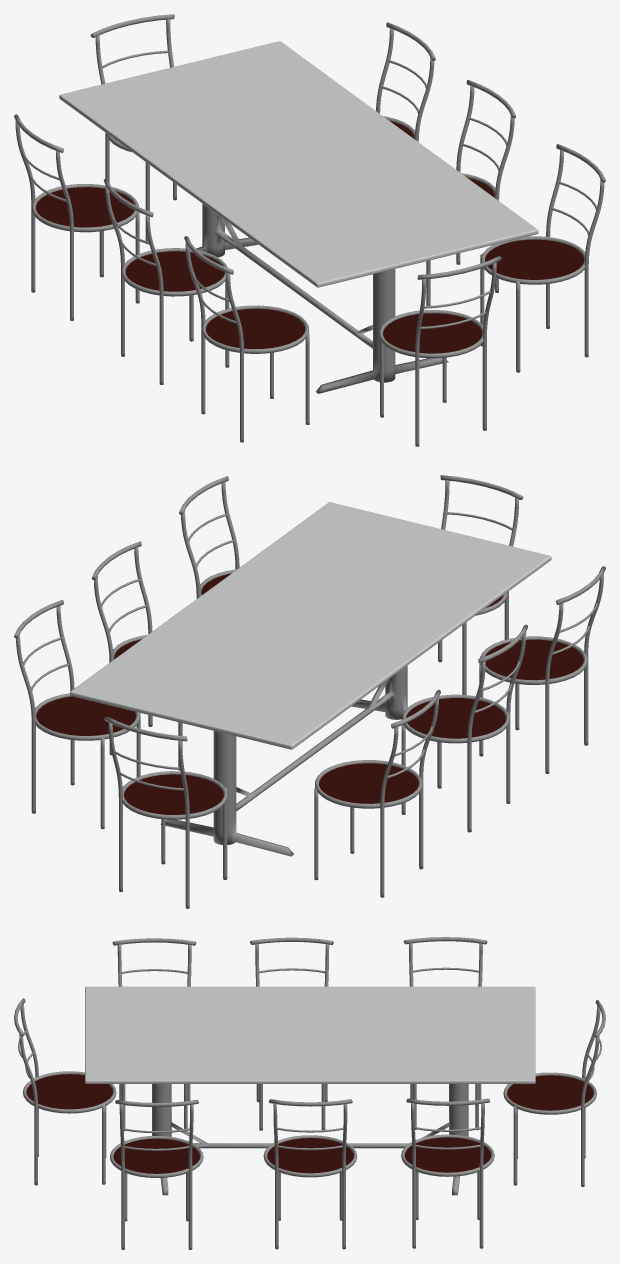
Rendered from chair.fbx.
3 renders of one model, top to bottom at view 1: azimuth 30°, elevation 25°; view 2: azimuth 150°, elevation 25°; view 3: azimuth 270°, elevation 25°, orthographic. The views are drawn at different scales.
Visible parts, largest first — view 1: chair.007; view 2: chair.007; view 3: chair.007.
Boxes of the visible parts, x1,y1,x2,y2 form: chair.007: (14,14,605,446); chair.007: (14,475,605,908); chair.007: (14,937,605,1249).
Size of the model in its own units: 426 by 636 by 184.
